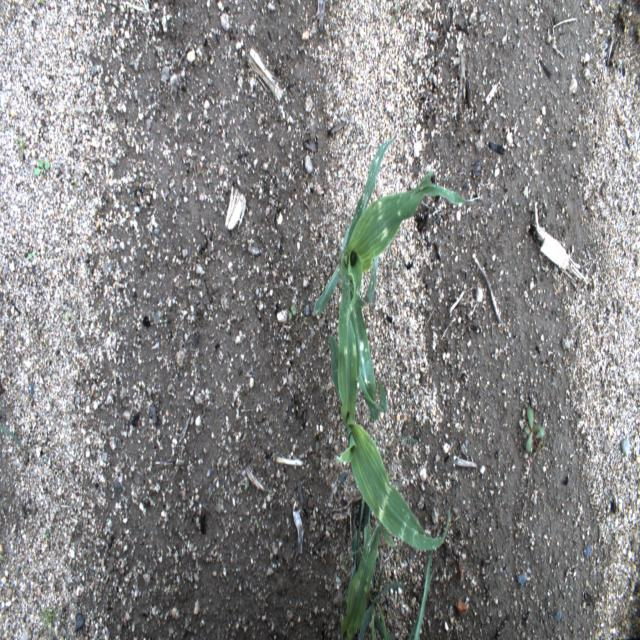crop: (314, 138, 481, 422), (328, 251, 450, 551), (339, 490, 407, 640), (407, 543, 436, 638)
weed: (522, 404, 544, 455), (38, 608, 61, 638), (1, 425, 24, 449), (33, 156, 51, 175), (288, 302, 296, 320), (254, 518, 260, 530)
